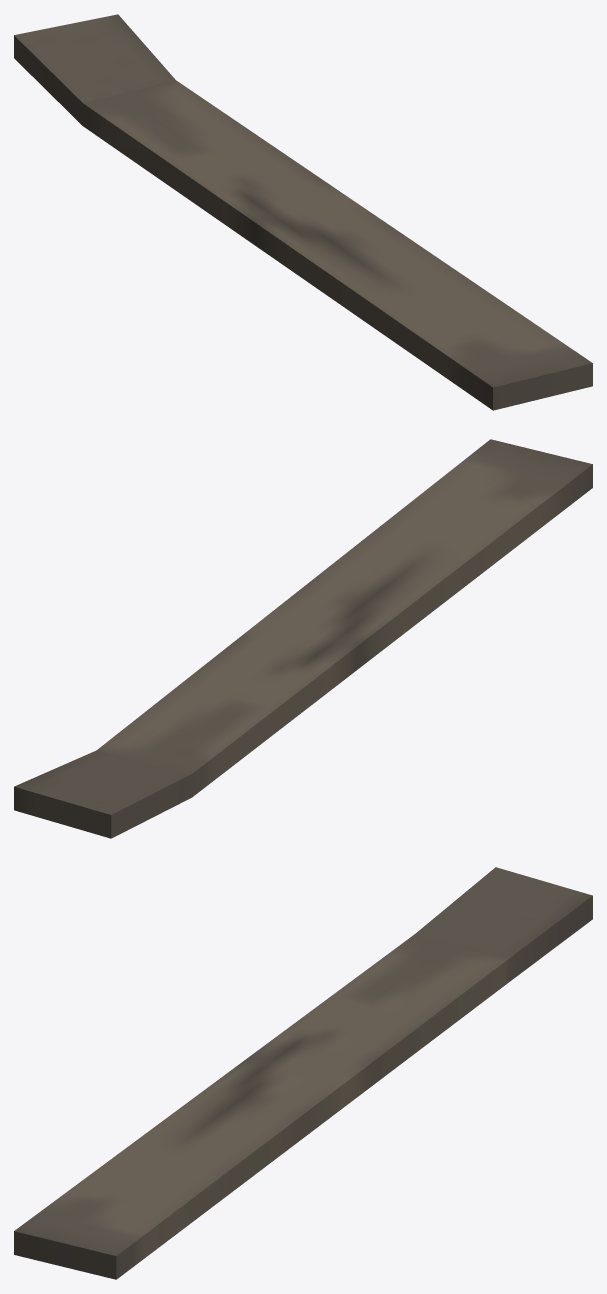
Rendered from SM_Bld_Platform_Wood_Plank_04.obj.
The picture shows the model from 3 angles, top to bottom: view 1: azimuth 30°, elevation 25°; view 2: azimuth 150°, elevation 25°; view 3: azimuth 330°, elevation 25°; orthographic projection. The views are drawn at different scales.
Parts seen in each view (by area): view 1: SM_Bld_Platform_Wood_Plank_04_0; view 2: SM_Bld_Platform_Wood_Plank_04_0; view 3: SM_Bld_Platform_Wood_Plank_04_0.
Part boxes in pixels (bbox=[...]): SM_Bld_Platform_Wood_Plank_04_0: bbox=[14, 14, 592, 410]; SM_Bld_Platform_Wood_Plank_04_0: bbox=[14, 439, 592, 838]; SM_Bld_Platform_Wood_Plank_04_0: bbox=[14, 867, 592, 1279].
Bounding box in the file's own units: 0.355 × 0.1102 × 2.66.
Materials: 1 (1 with a texture image).
